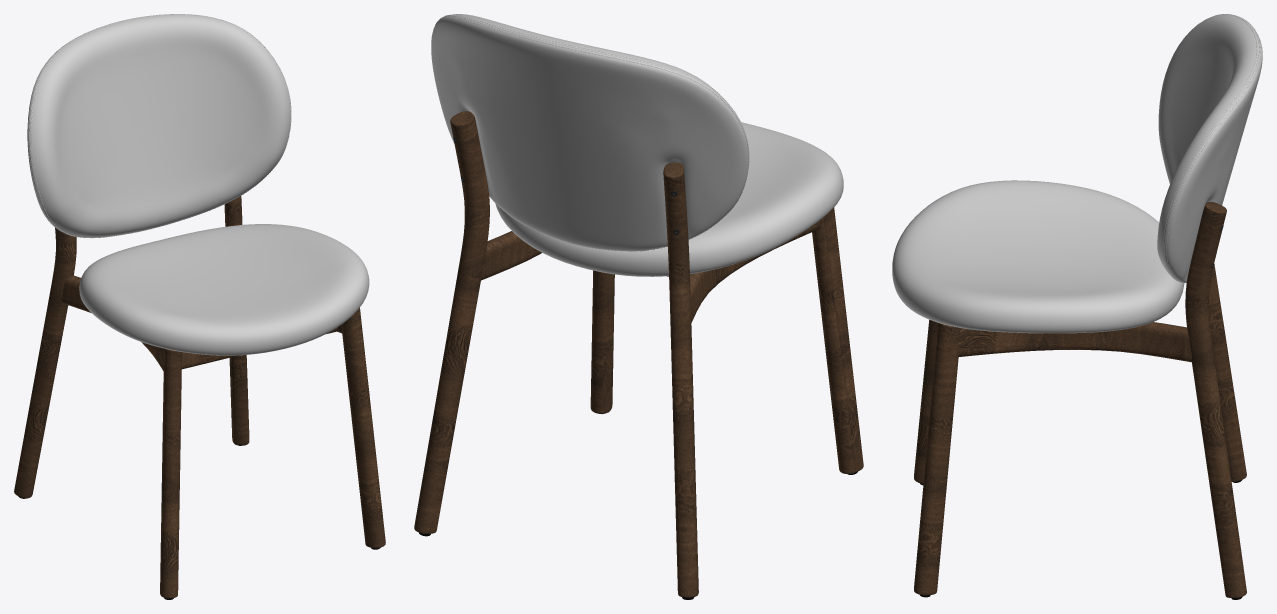
File: silla.obj
The picture shows the model from 3 angles, left to right: view 1: azimuth 30°, elevation 25°; view 2: azimuth 150°, elevation 25°; view 3: azimuth 270°, elevation 25°; orthographic projection. The views are drawn at different scales.
Visible parts, largest first — view 1: ines_seat, ines_warp, ines_spline; view 2: ines_seat, ines_warp, ines_spline; view 3: ines_seat, ines_warp, ines_spline.
Part boxes in pixels (bbox=[...]): ines_seat: bbox=[27, 14, 369, 355]; ines_warp: bbox=[14, 196, 385, 598]; ines_spline: bbox=[28, 14, 291, 238]; ines_seat: bbox=[431, 14, 843, 276]; ines_warp: bbox=[414, 111, 863, 597]; ines_spline: bbox=[436, 14, 748, 251]; ines_seat: bbox=[892, 14, 1262, 333]; ines_warp: bbox=[914, 202, 1246, 597]; ines_spline: bbox=[1163, 14, 1260, 283].
Bounding box in the file's own units: 0.5049 × 0.8232 × 0.5631.
